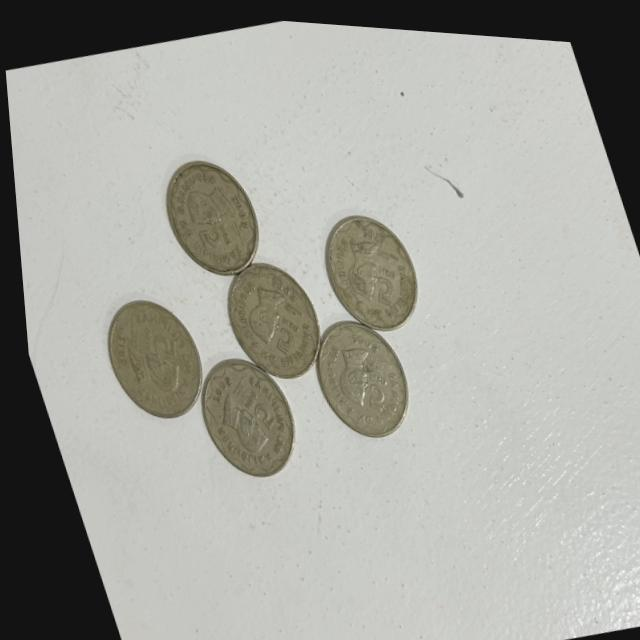5_Old_Front: (341, 356, 392, 411), (129, 313, 179, 368), (185, 207, 236, 258), (228, 381, 271, 436), (361, 251, 403, 306), (261, 308, 304, 355)
